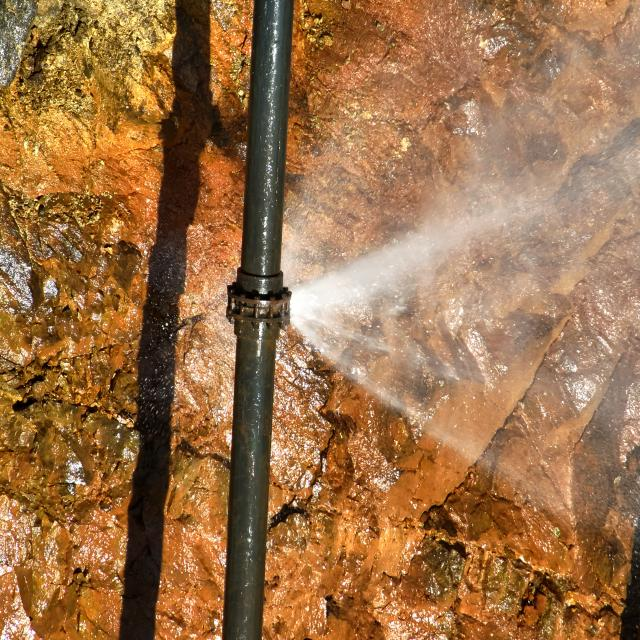leak: (286, 30, 640, 571)
